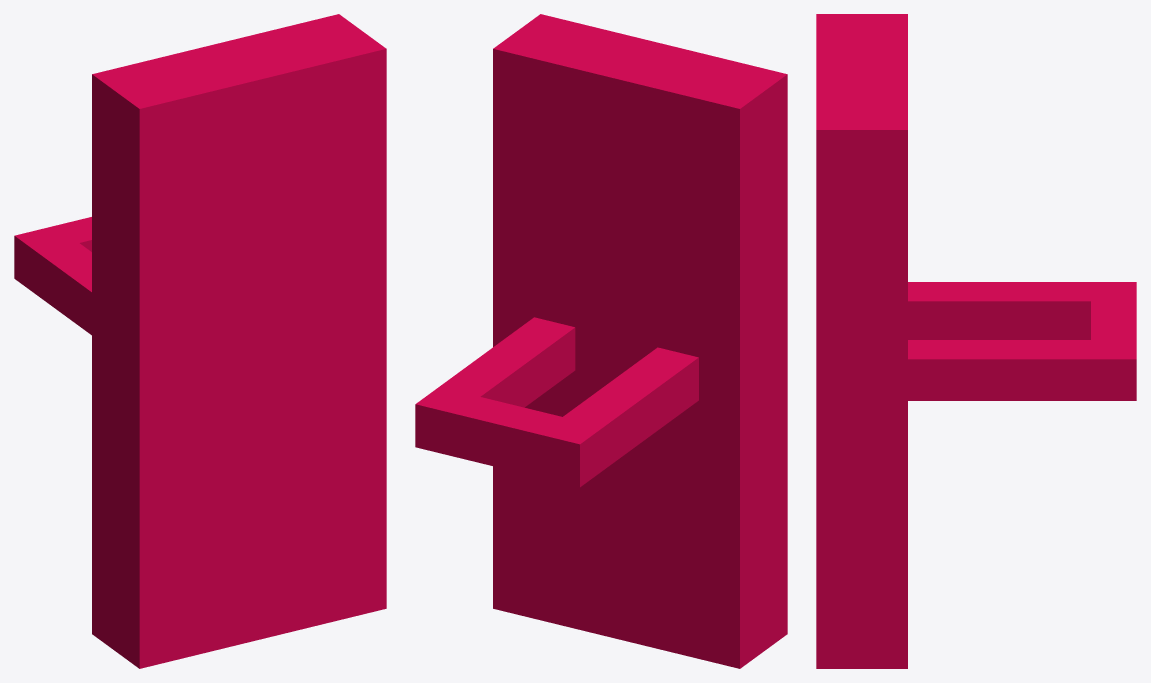
The model's file is Lever.fbx.
The picture shows the model from 3 angles, left to right: view 1: azimuth 30°, elevation 25°; view 2: azimuth 150°, elevation 25°; view 3: azimuth 270°, elevation 25°; orthographic projection. The views are drawn at different scales.
Visible parts, largest first — view 1: Support, Handle; view 2: Support, Handle; view 3: Support, Handle.
Part boxes in pixels (x1,y1,x2,y2): Support: [92, 14, 386, 668]; Handle: [14, 217, 91, 335]; Support: [493, 14, 787, 668]; Handle: [415, 317, 698, 487]; Support: [816, 14, 907, 668]; Handle: [908, 282, 1136, 400].
Size of the model in its own units: 37.5 by 81.25 by 43.75.
